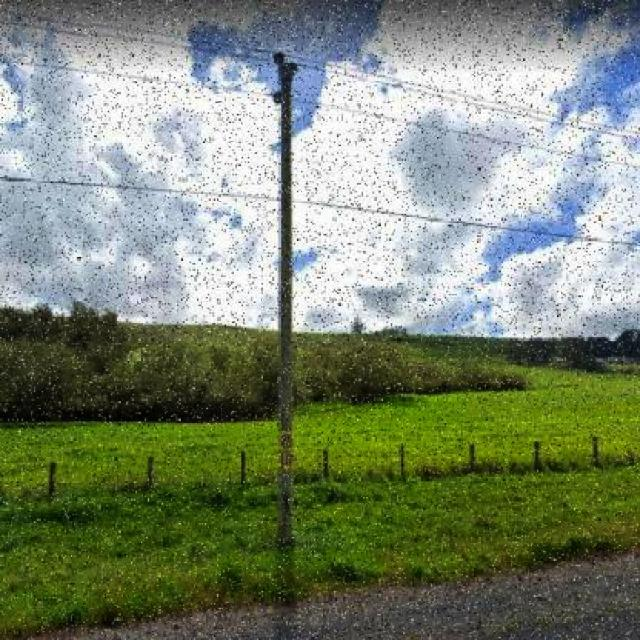pole: (274, 52, 295, 555)
wire: (0, 10, 640, 135), (0, 20, 640, 140), (0, 58, 640, 169), (0, 176, 640, 247)
